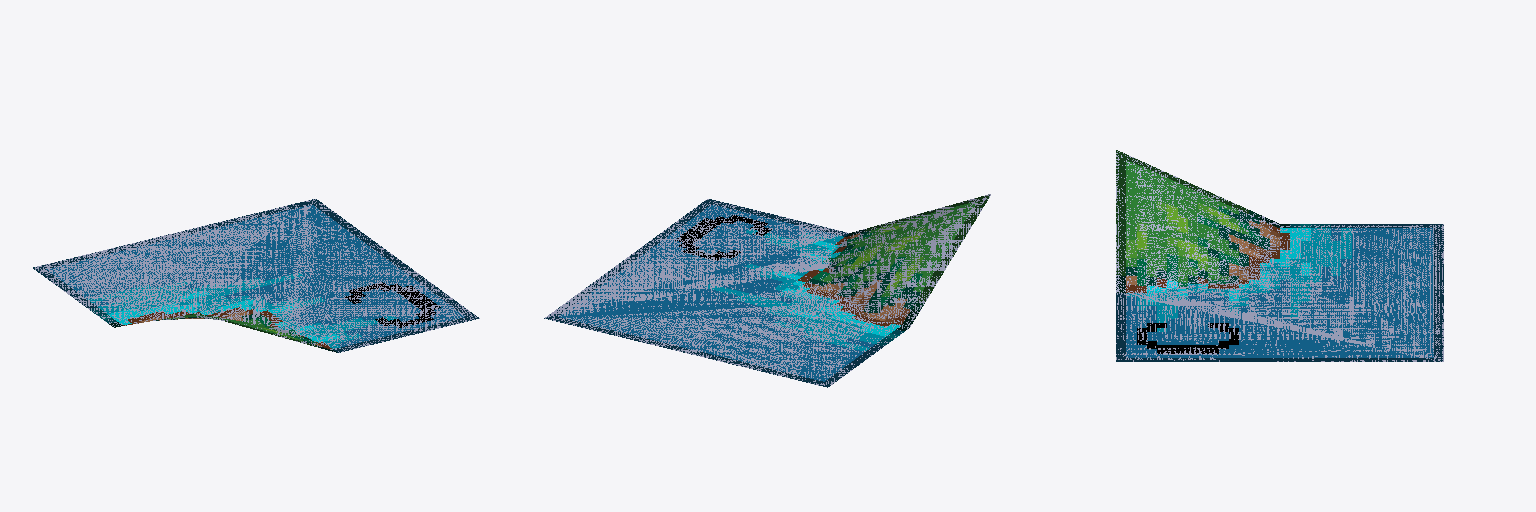
3 views of the same model, side by side, from view 1: azimuth 30°, elevation 25°; view 2: azimuth 150°, elevation 25°; view 3: azimuth 270°, elevation 25° (orthographic).
Visible parts, largest first — view 1: Mesh1 Model; view 2: Mesh1 Model; view 3: Mesh1 Model.
Boxes of the visible parts, <box> form: Mesh1 Model: <box>33,199,479,352</box>; Mesh1 Model: <box>544,194,990,387</box>; Mesh1 Model: <box>1116,150,1443,361</box>.
Bounding box in the file's own units: 32 × 8 × 32.
Materials: 2 (1 with a texture image).